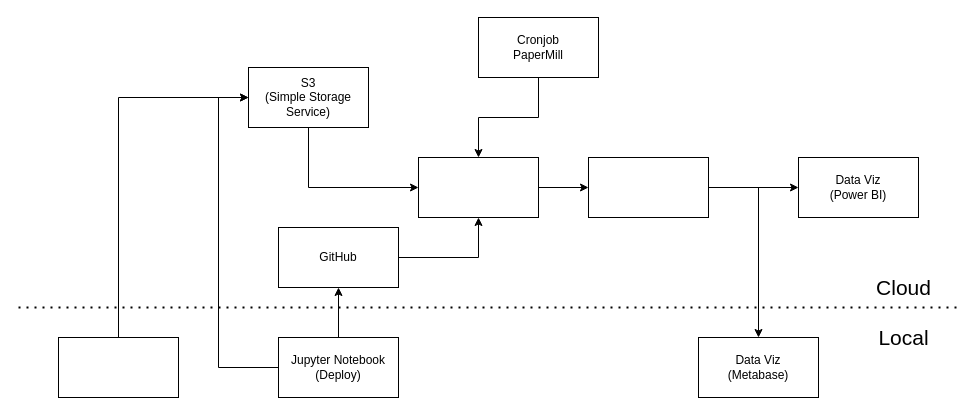
This 977x415 diagram has some shape labels left out. Each missing label, with the centre of its shape:
"Banco de Dados (Postgres)" belongs at point 648,187.
"Dataset com Novos Clientes" belongs at point 118,367.
"EC2 Jupyter Notebook" belongs at point 478,187.
